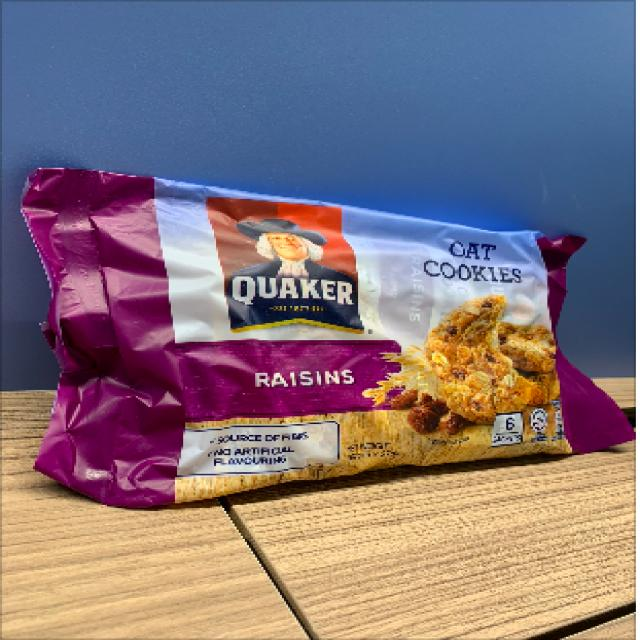object_name: (47, 183, 589, 456)
